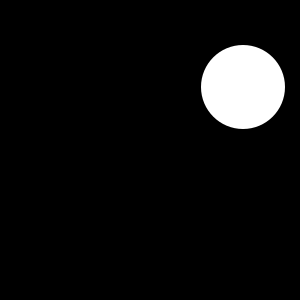rectangle: (201, 45, 285, 129)
